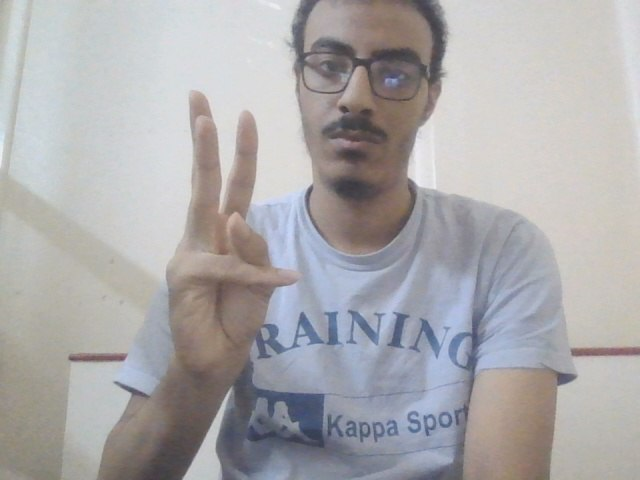Water: (153, 80, 311, 389)
